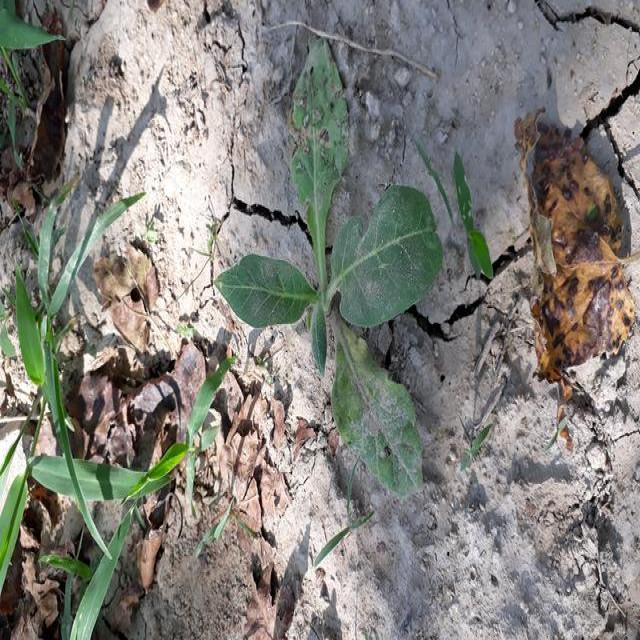crop: (215, 47, 447, 496)
